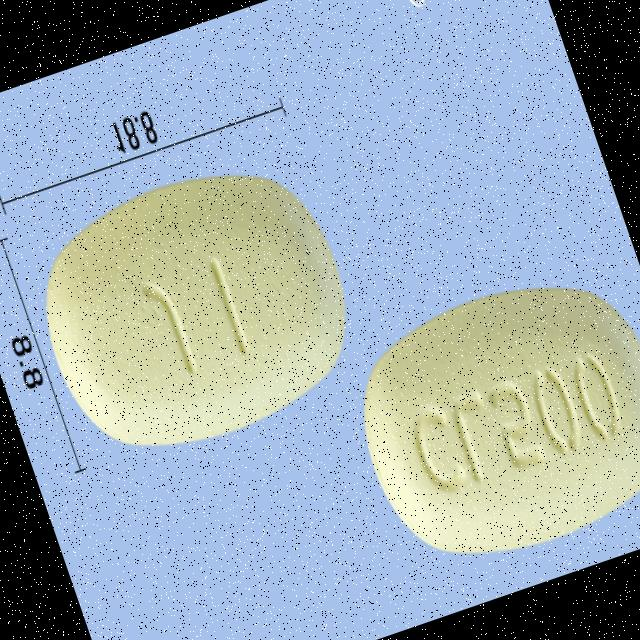Jecli: (14, 142, 377, 482), (333, 253, 640, 589)
